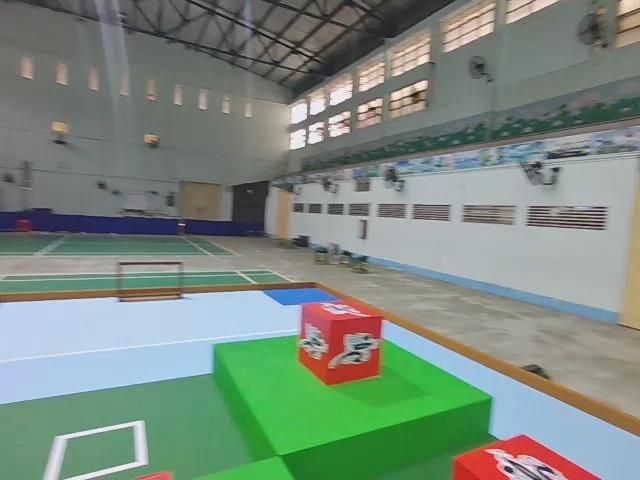R1: (440, 427, 605, 480), (295, 296, 385, 389)
